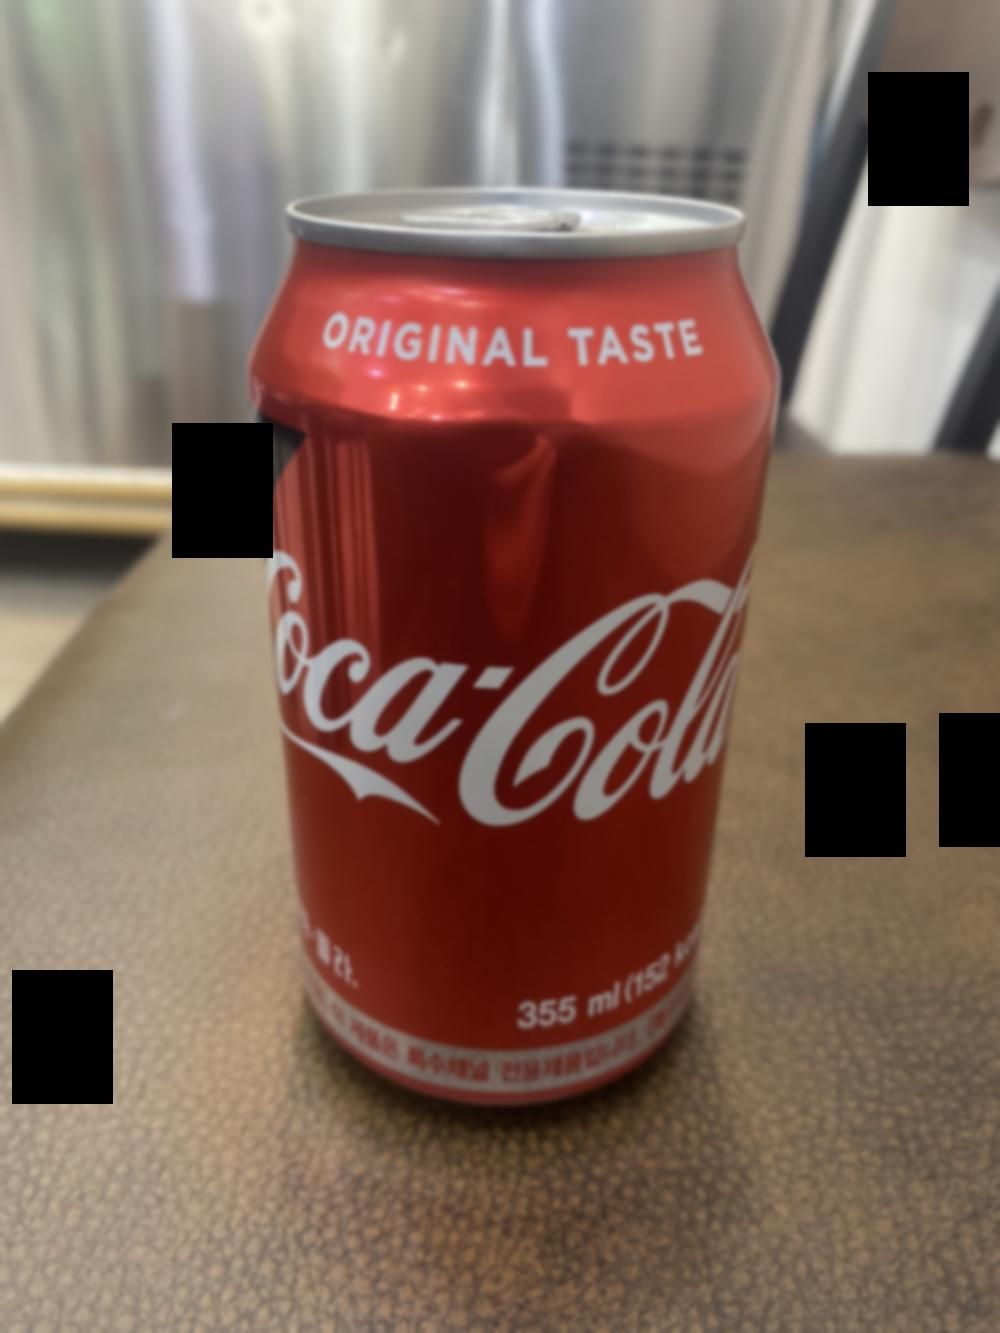cocacola: (256, 181, 757, 1115)
